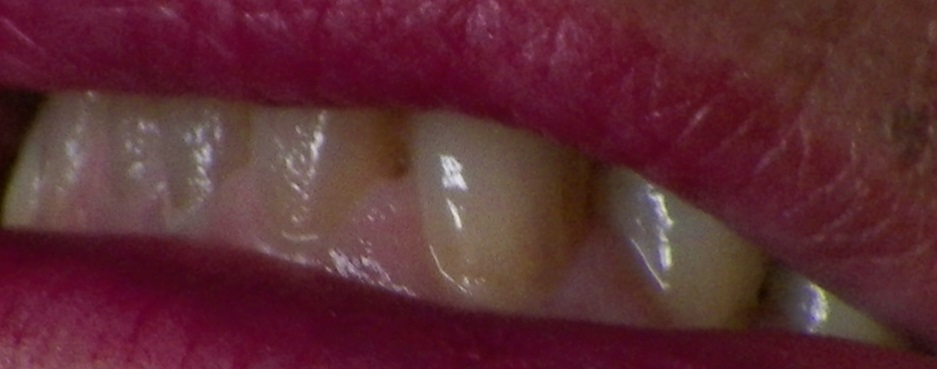boca: (15, 85, 893, 339)
